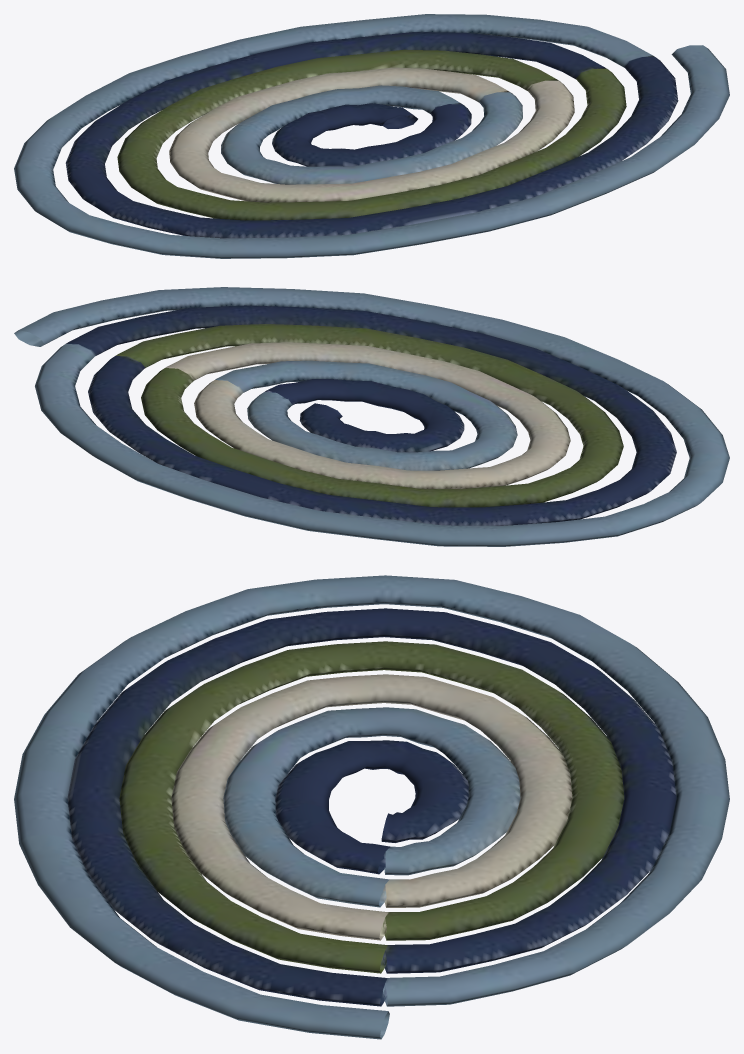
The model's file is rug_braided_cool.glb.
3 renders of one model, top to bottom at view 1: azimuth 30°, elevation 25°; view 2: azimuth 150°, elevation 25°; view 3: azimuth 270°, elevation 25°, orthographic. The views are drawn at different scales.
Visible parts, largest first — view 1: prop_rug_braided_cool_felt; view 2: prop_rug_braided_cool_felt; view 3: prop_rug_braided_cool_felt.
Part boxes in pixels (left/top/right/bottom): prop_rug_braided_cool_felt: left=14, top=14, right=729, bottom=258; prop_rug_braided_cool_felt: left=14, top=287, right=729, bottom=546; prop_rug_braided_cool_felt: left=14, top=575, right=729, bottom=1039.
Size of the model in its own units: 2.92 by 0.06 by 1.93.
1 material, 1 textured.
